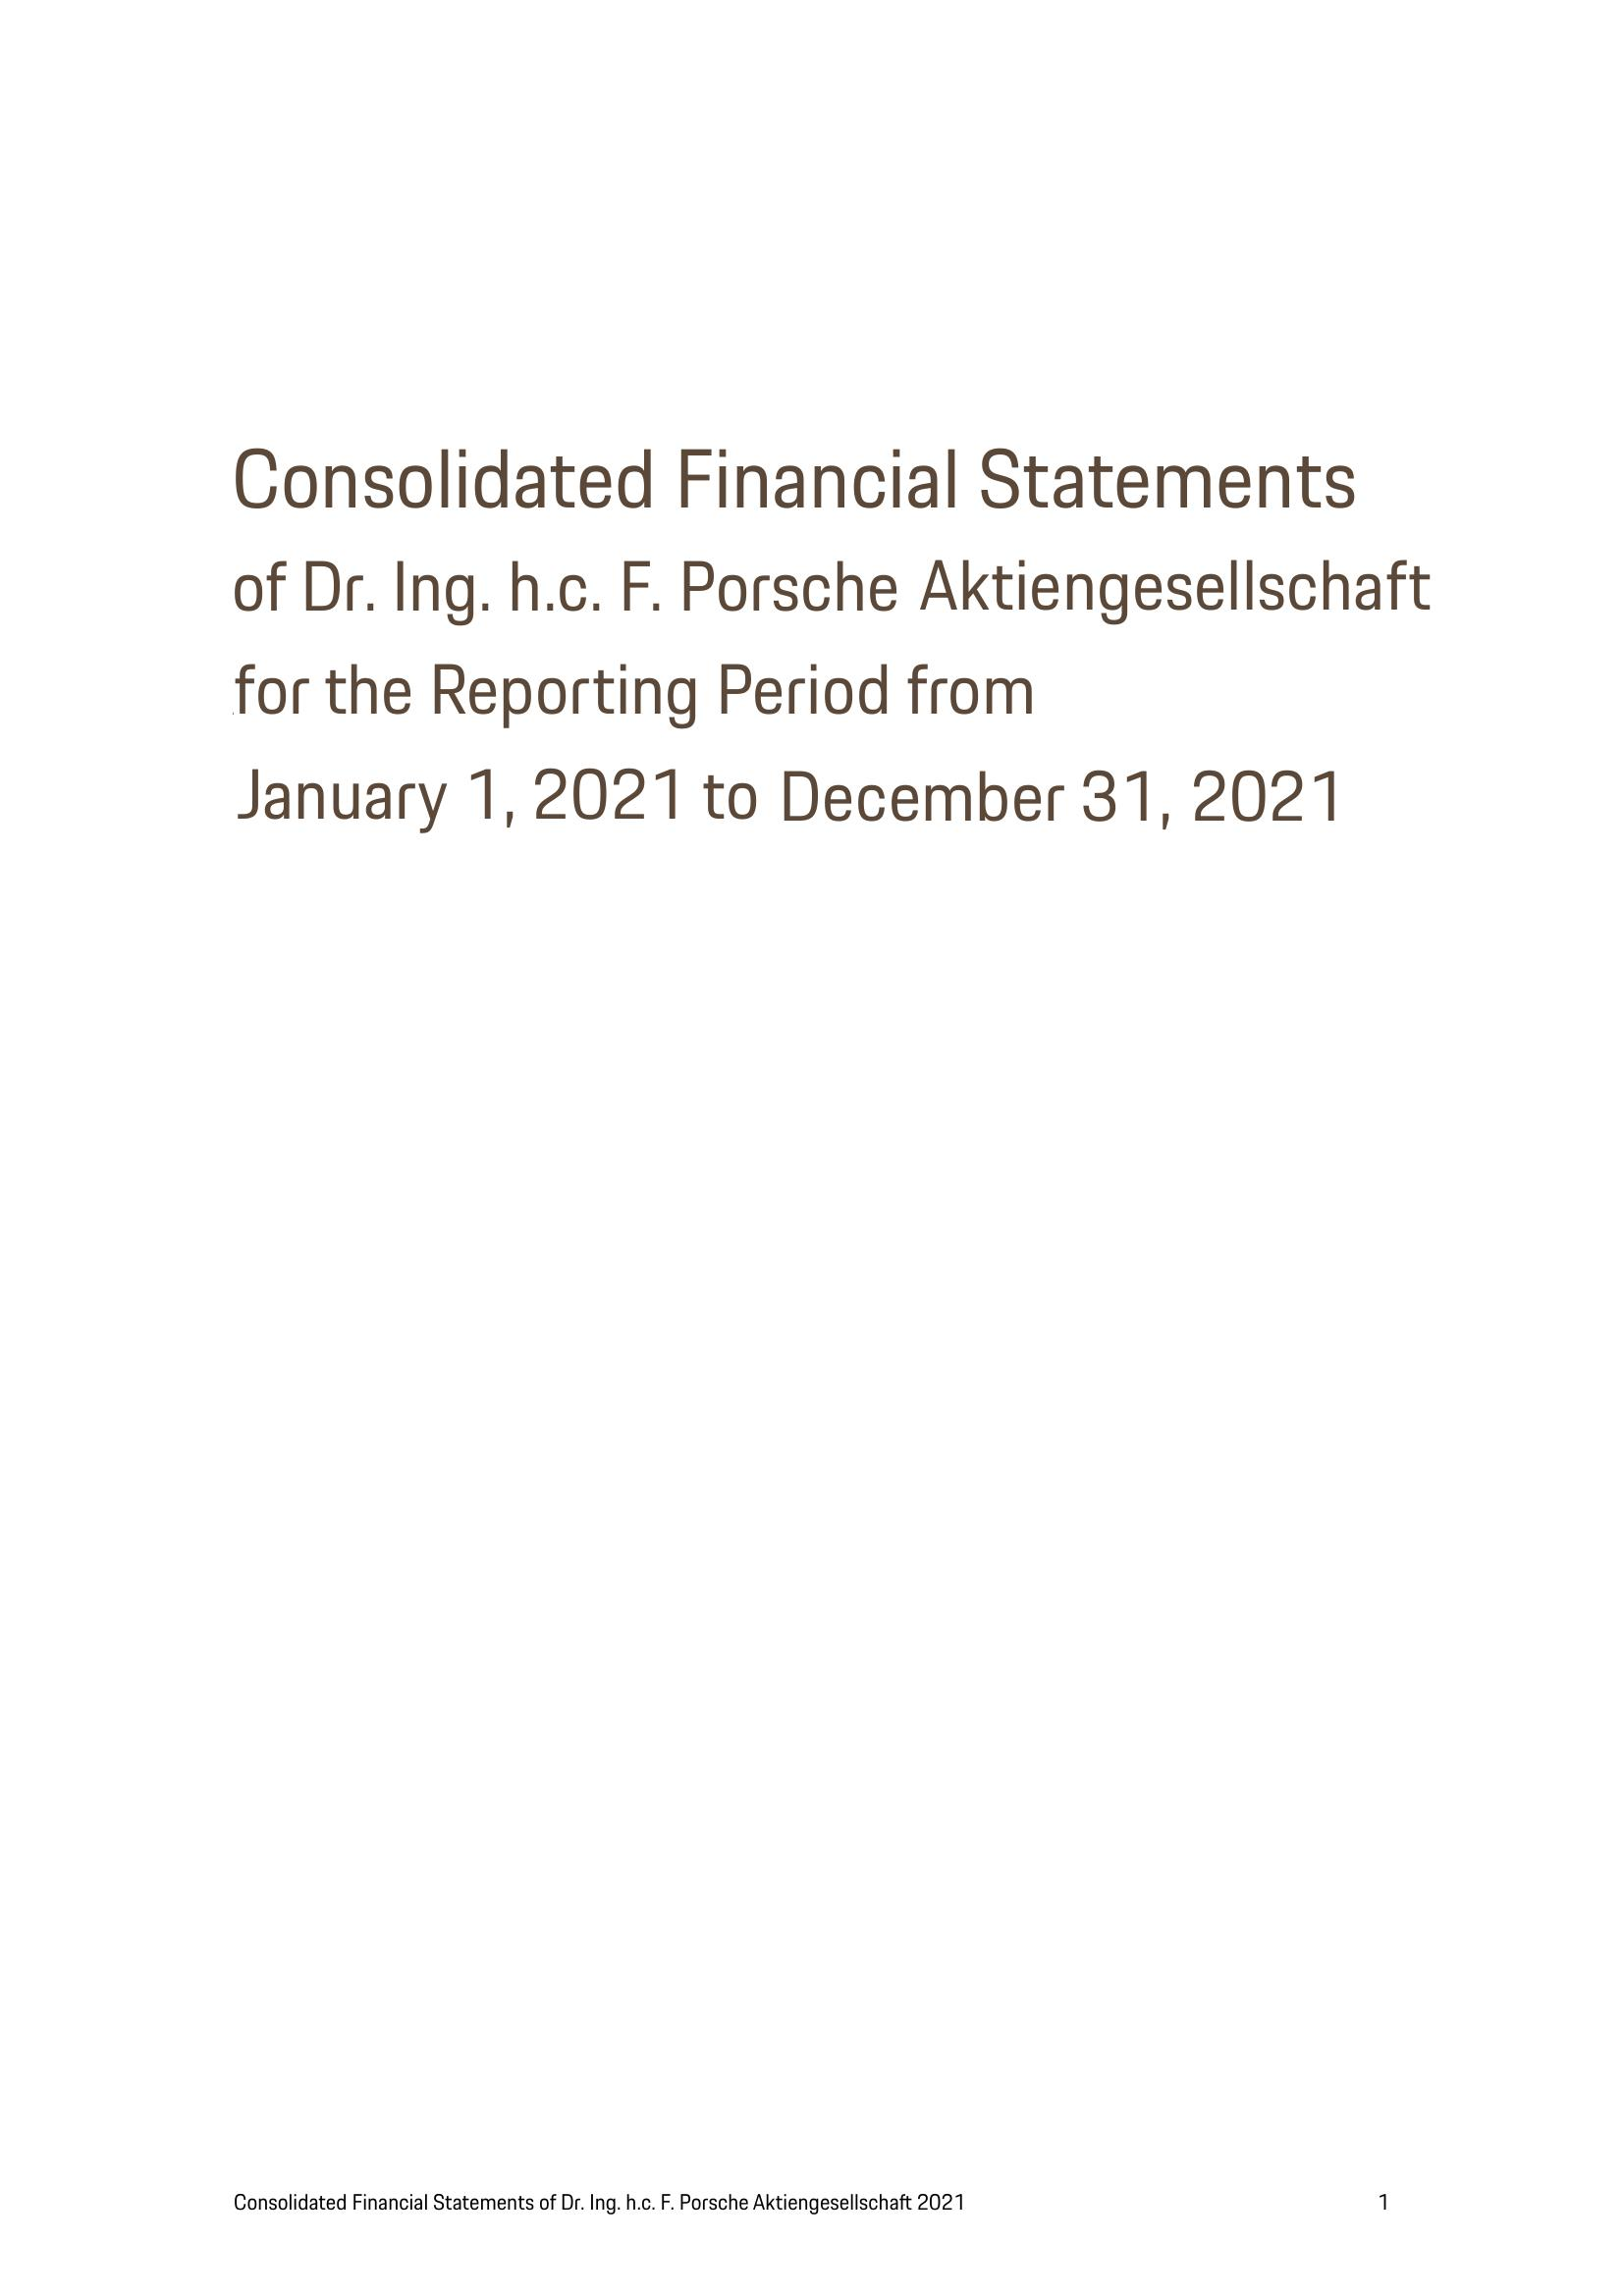Footer: (0, 2131, 1624, 2296)
